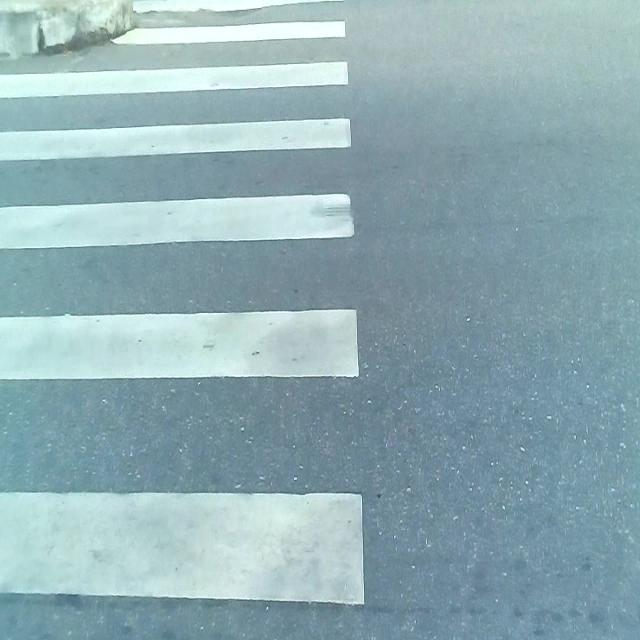crosswalk: (0, 0, 370, 640)
